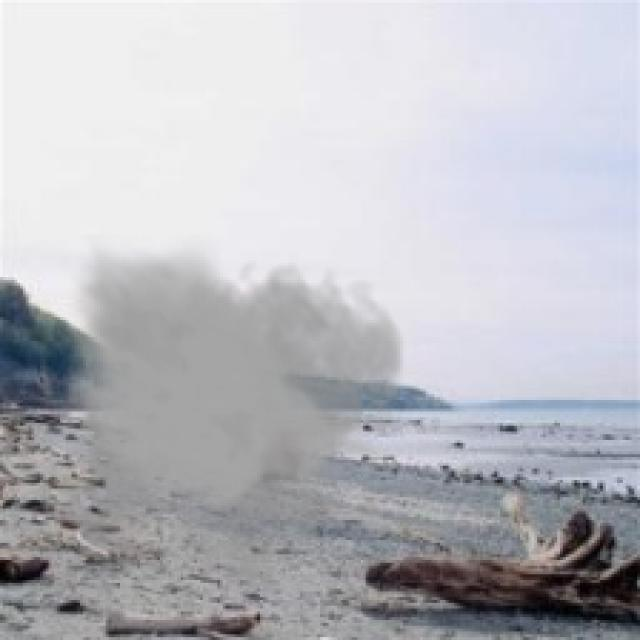smoke: (57, 234, 409, 592)
